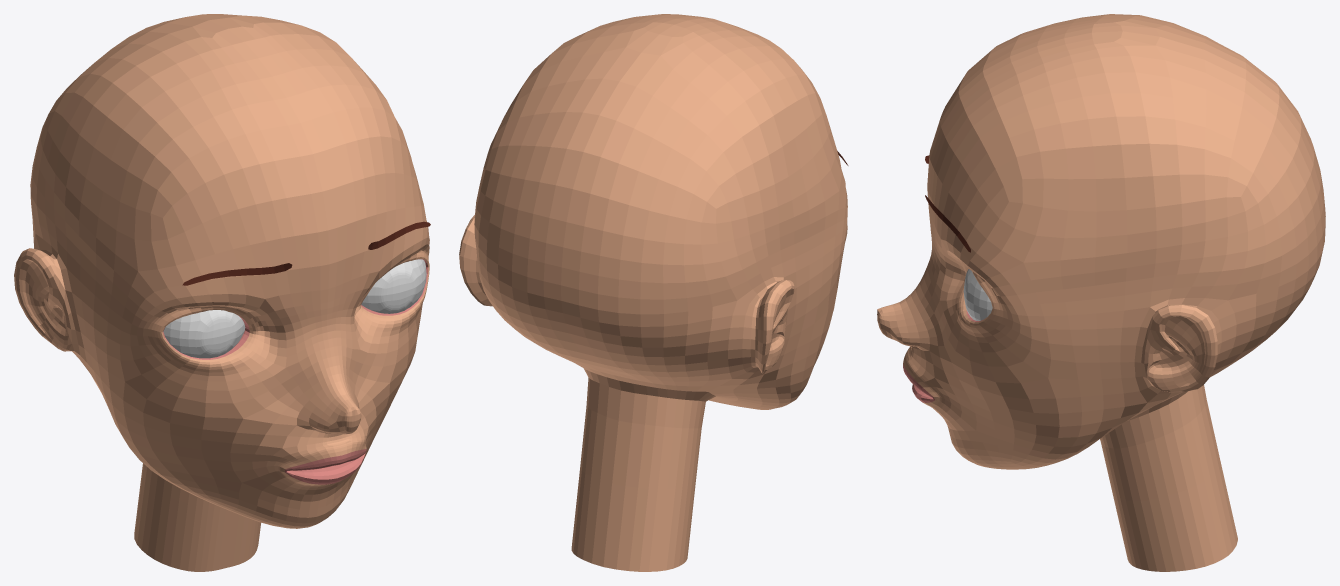
The model's file is Magenta_Head_Textured.fbx.
3 renders of one model, left to right at view 1: azimuth 30°, elevation 25°; view 2: azimuth 150°, elevation 25°; view 3: azimuth 270°, elevation 25°, orthographic. The views are drawn at different scales.
Parts seen in each view (by area): view 1: Head, Eye_R_Clear, Eye_L_Clear, Eyebrow; view 2: Head; view 3: Head, Eye_L_Clear.
Boxes of the visible parts, x1,y1,x2,y2 form: Head: (14,14,429,571); Eye_R_Clear: (163,310,245,358); Eye_L_Clear: (361,259,426,313); Eyebrow: (182,221,430,285); Head: (459,14,847,571); Head: (877,14,1325,571); Eye_L_Clear: (963,269,992,320).
Size of the model in its own units: 23.58 by 36.56 by 28.44.
